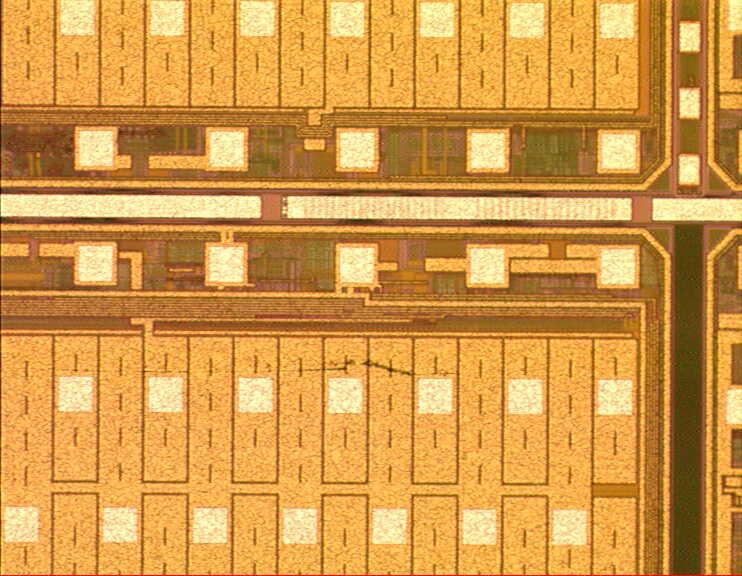SCRATCH: (1, 356, 518, 387)
